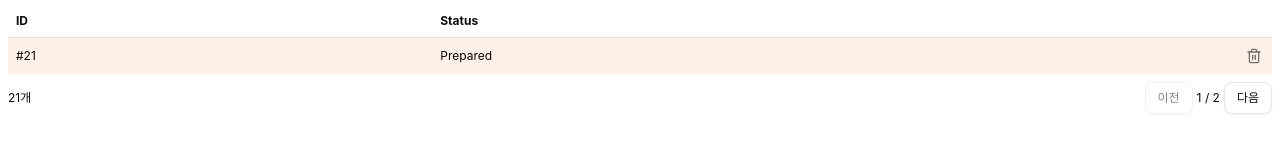
Test: returns to the previous page after its final row is deleted
Expected: the button named "Measurement #21 삭제" is shown, left=1240, top=42, right=1268, bottom=70
What coordinates should you click on to do the following:
click the button "다음"
I would click on:
 (1248, 98)
Its box is left=1224, top=82, right=1272, bottom=114.
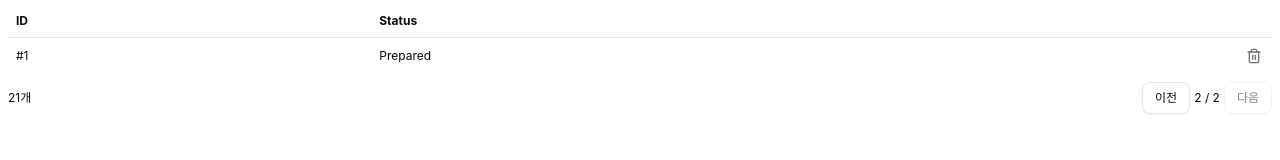
What coordinates should you click on to do the following:
click the button named "Measurement #1 삭제"
I would click on:
 (1254, 56)
Its box is left=1240, top=42, right=1268, bottom=70.
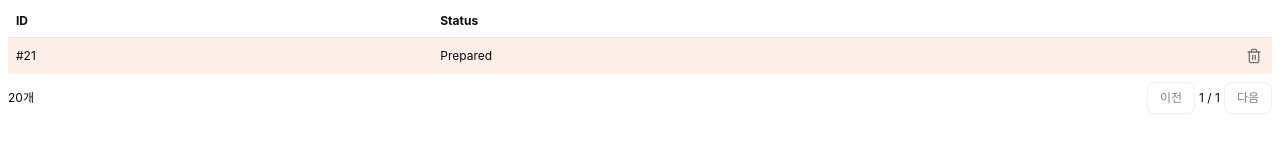
Expected: the text "1 / 1" is shown, left=1199, top=90, right=1220, bottom=106
